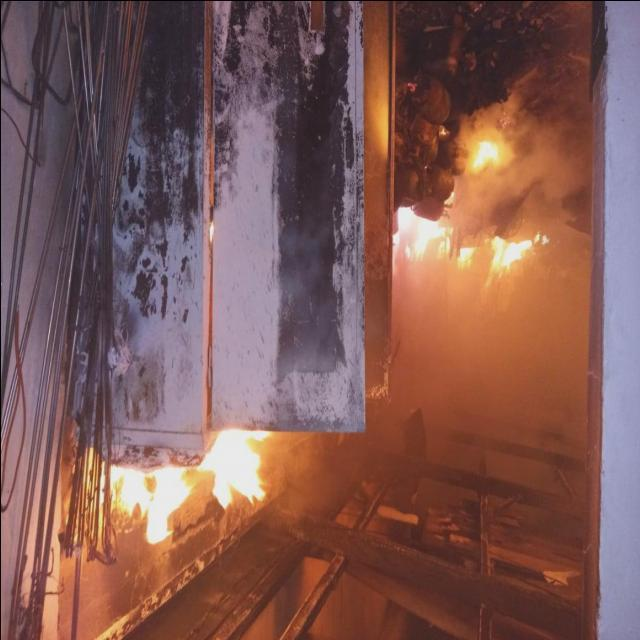Fire: (97, 434, 277, 536), (392, 200, 451, 264), (486, 234, 552, 280), (471, 140, 511, 176), (453, 244, 477, 270)
